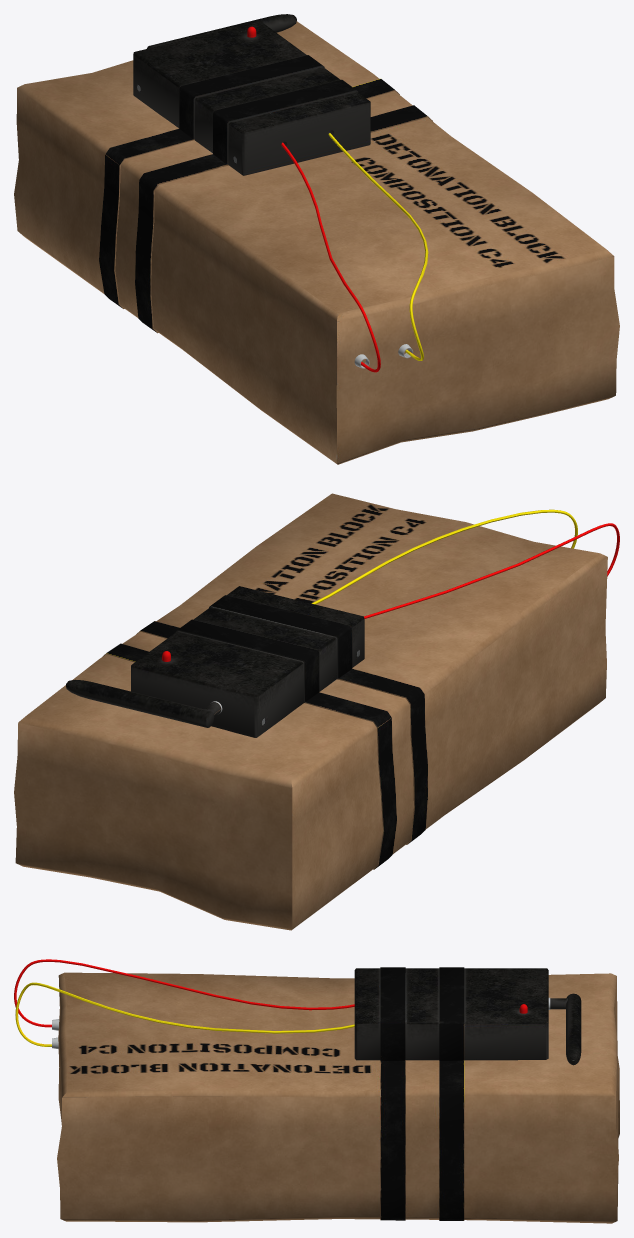
File: cc0-guns-explosives-pack-glb--c4.glb
3 renders of one model, top to bottom at view 1: azimuth 30°, elevation 25°; view 2: azimuth 150°, elevation 25°; view 3: azimuth 270°, elevation 25°, orthographic. The views are drawn at different scales.
Parts seen in each view (by area): view 1: C4; view 2: C4; view 3: C4.
Part boxes in pixels (x1,y1,x2,y2): C4: (14, 14, 619, 464); C4: (14, 493, 619, 930); C4: (14, 959, 619, 1223).
Bounding box in the file's own units: 0.0967 × 0.0663 × 0.2011.
1 material, 1 textured.
